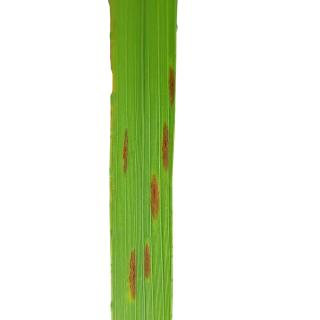Bercak-Cokelat-Sempit: (126, 242, 154, 302), (154, 118, 177, 176), (116, 126, 133, 186), (145, 172, 163, 226), (161, 66, 183, 106)
